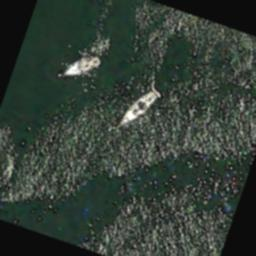boat: (116, 82, 158, 136), (56, 43, 102, 89)
